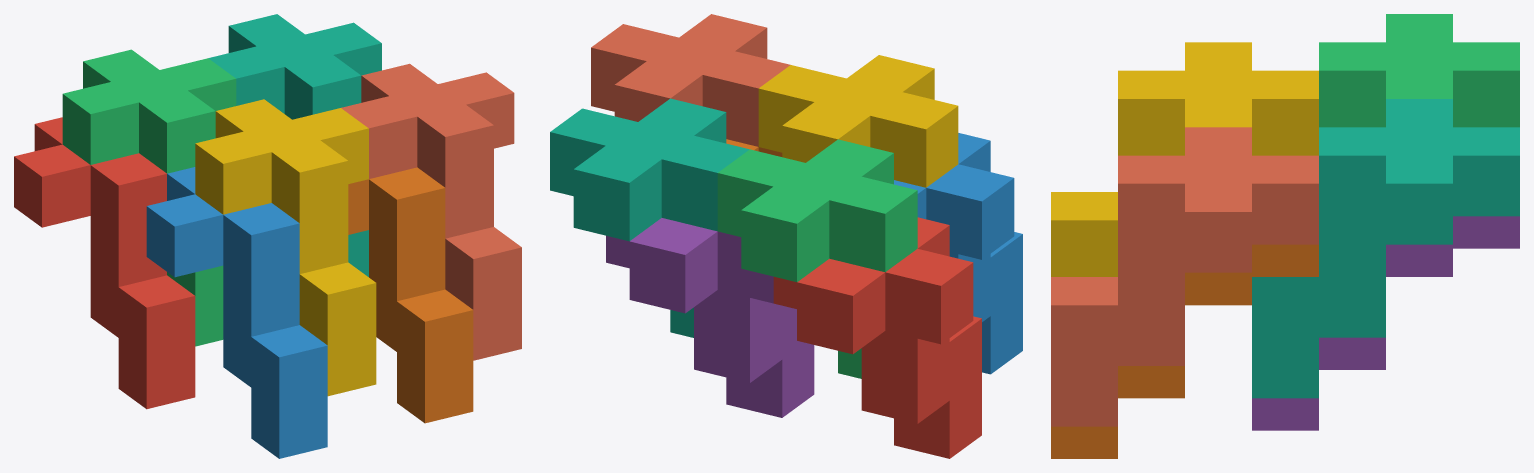
Rendered from tiling.obj.
3 views of the same model, side by side, from view 1: azimuth 30°, elevation 25°; view 2: azimuth 150°, elevation 25°; view 3: azimuth 270°, elevation 25° (orthographic). The views are drawn at different scales.
Visible parts, largest first — view 1: copy_1_domain_4, copy_1_domain_2, copy_1_domain_8, copy_1_domain_1, copy_1_domain_6, copy_1_domain_3, copy_1_domain_7; view 2: copy_1_domain_1, copy_1_domain_3, copy_1_domain_5, copy_1_domain_7, copy_1_domain_4, copy_1_domain_8, copy_1_domain_2; view 3: copy_1_domain_8, copy_1_domain_7, copy_1_domain_4, copy_1_domain_3, copy_1_domain_6, copy_1_domain_5.
Part boxes in pixels (x1,y1,x2,y2): copy_1_domain_4: (195, 99, 376, 396); copy_1_domain_2: (146, 167, 327, 458); copy_1_domain_8: (341, 63, 521, 360); copy_1_domain_1: (14, 117, 195, 409); copy_1_domain_6: (348, 167, 473, 423); copy_1_domain_3: (62, 49, 236, 346); copy_1_domain_7: (208, 14, 381, 276); copy_1_domain_1: (773, 217, 981, 458); copy_1_domain_3: (717, 139, 917, 378); copy_1_domain_5: (606, 218, 814, 417); copy_1_domain_7: (550, 98, 749, 337); copy_1_domain_4: (758, 55, 958, 187); copy_1_domain_8: (591, 14, 790, 146); copy_1_domain_2: (894, 133, 1022, 374); copy_1_domain_8: (1051, 127, 1318, 426); copy_1_domain_7: (1252, 99, 1519, 398); copy_1_domain_4: (1051, 42, 1318, 276); copy_1_domain_3: (1319, 14, 1519, 127); copy_1_domain_6: (1051, 244, 1318, 458); copy_1_domain_5: (1252, 216, 1519, 430).
Size of the model in its own units: 8 by 5 by 7.
